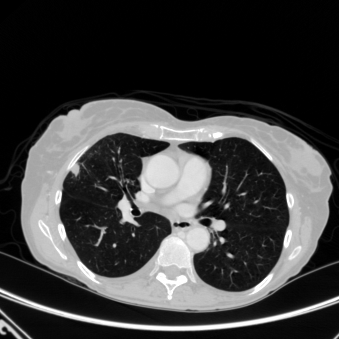nodule: (69, 162, 81, 174)
